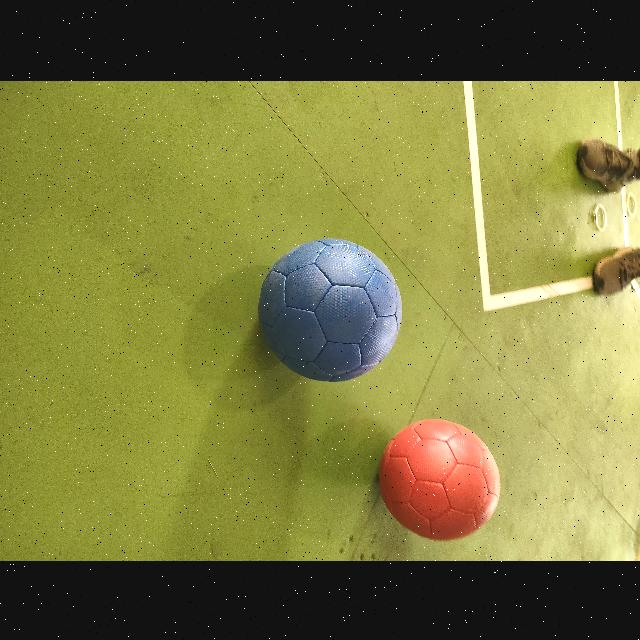B: (259, 238, 401, 380)
R: (380, 419, 500, 539)
